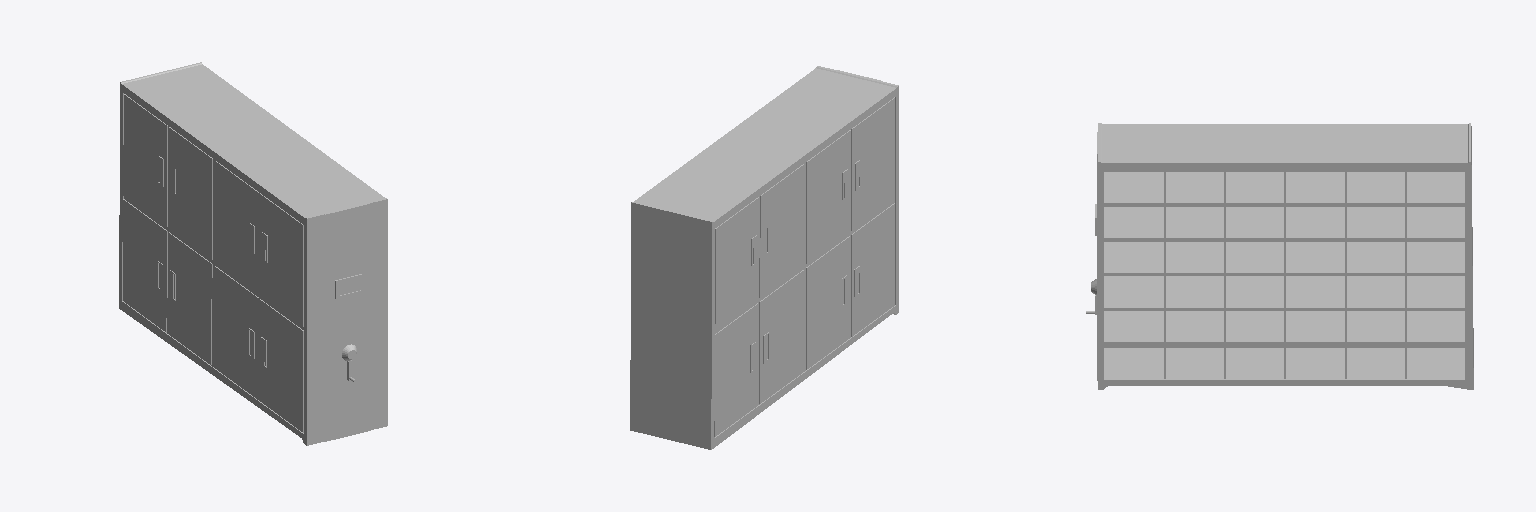
The model's file is mjjleft6-6.obj.
3 renders of one model, left to right at view 1: azimuth 30°, elevation 25°; view 2: azimuth 150°, elevation 25°; view 3: azimuth 270°, elevation 25°, orthographic.
Parts seen in each view (by area): view 1: mjj; view 2: mjj; view 3: mjj.
Part boxes in pixels (x1,y1,x2,y2): mjj: (119, 62, 387, 445); mjj: (630, 66, 898, 449); mjj: (1097, 123, 1473, 389).
Size of the model in its own units: 35.84 by 94.93 by 147.